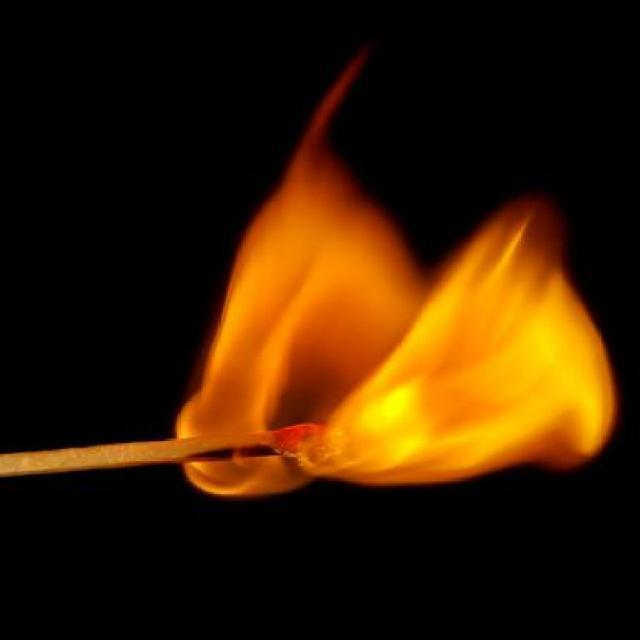Fire: (172, 90, 616, 503)
